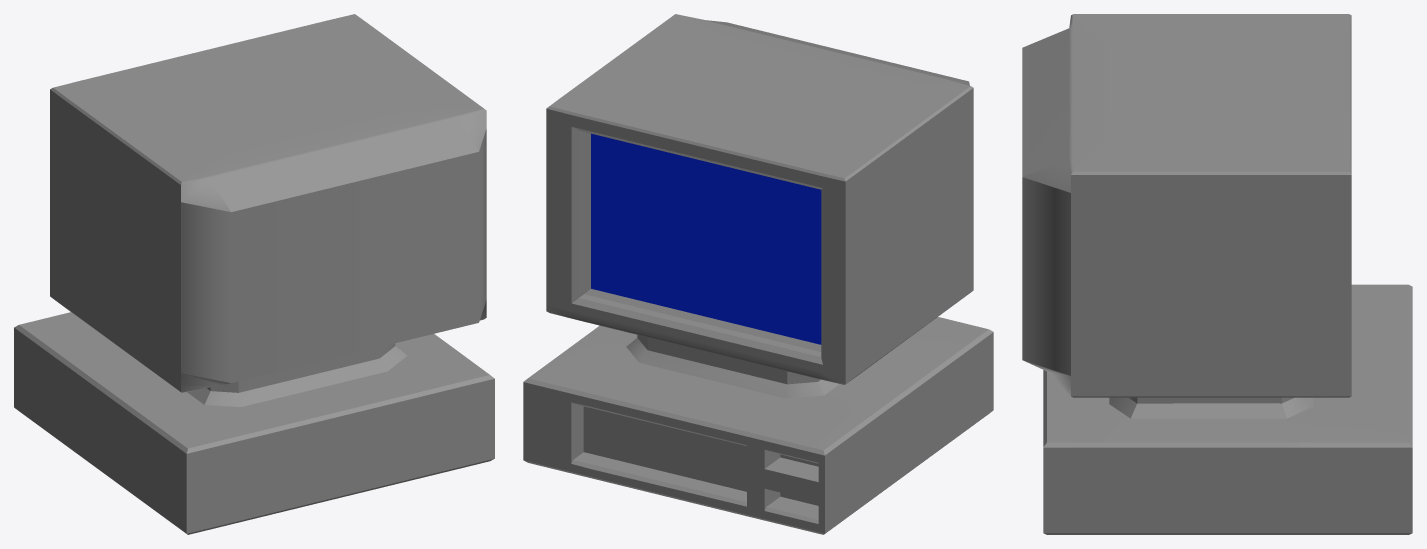
File: Comp_Tex.fbx
3 views of the same model, side by side, from view 1: azimuth 30°, elevation 25°; view 2: azimuth 150°, elevation 25°; view 3: azimuth 270°, elevation 25° (orthographic). The views are drawn at different scales.
Visible parts, largest first — view 1: pCube1; view 2: pCube1 (×2); view 3: pCube1.
Boxes of the visible parts, x1=… form: pCube1: x1=14, y1=14, x2=494, y2=534; pCube1 (×2): x1=523, y1=14, x2=993, y2=534; pCube1: x1=1022, y1=14, x2=1412, y2=534.
Bounding box in the file's own units: 1.02 × 1.07 × 1.03.
